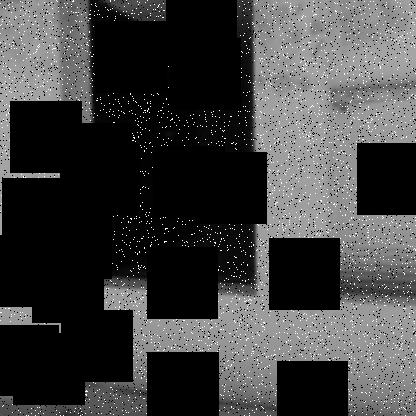Porte: (56, 1, 258, 298)
